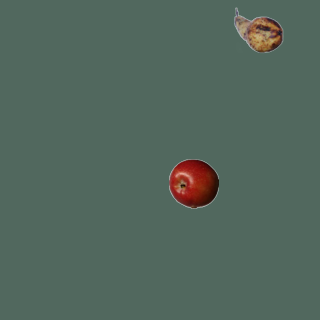Apple Braeburn: (168, 158, 218, 208)
Pear Abate: (233, 5, 283, 55)
